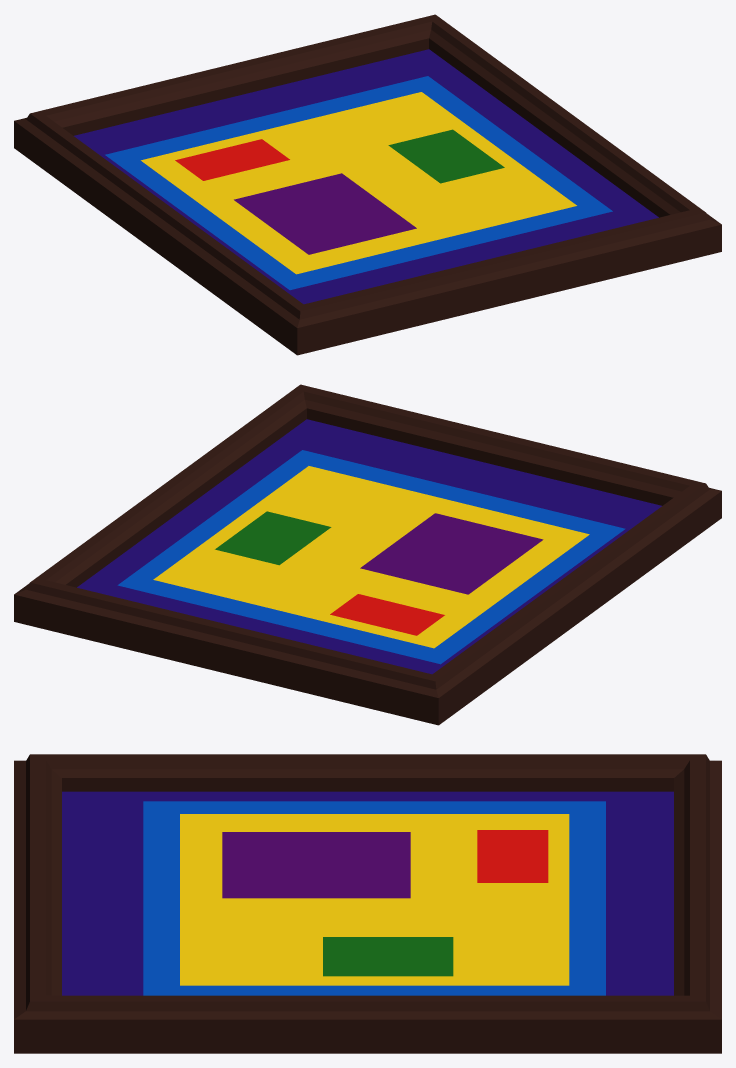
File: WallPainting_01.obj
3 views of the same model, one above another, from view 1: azimuth 30°, elevation 25°; view 2: azimuth 150°, elevation 25°; view 3: azimuth 270°, elevation 25° (orthographic). The views are drawn at different scales.
Visible parts, largest first — view 1: pasted__pCube12 group; view 2: pasted__pCube12 group; view 3: pasted__pCube12 group.
Boxes of the visible parts, box(x1,y1,x2,y2) form: pasted__pCube12 group: box(14, 14, 721, 355); pasted__pCube12 group: box(14, 384, 721, 725); pasted__pCube12 group: box(14, 754, 721, 1053).
Size of the model in its own units: 129 by 10.78 by 149.
